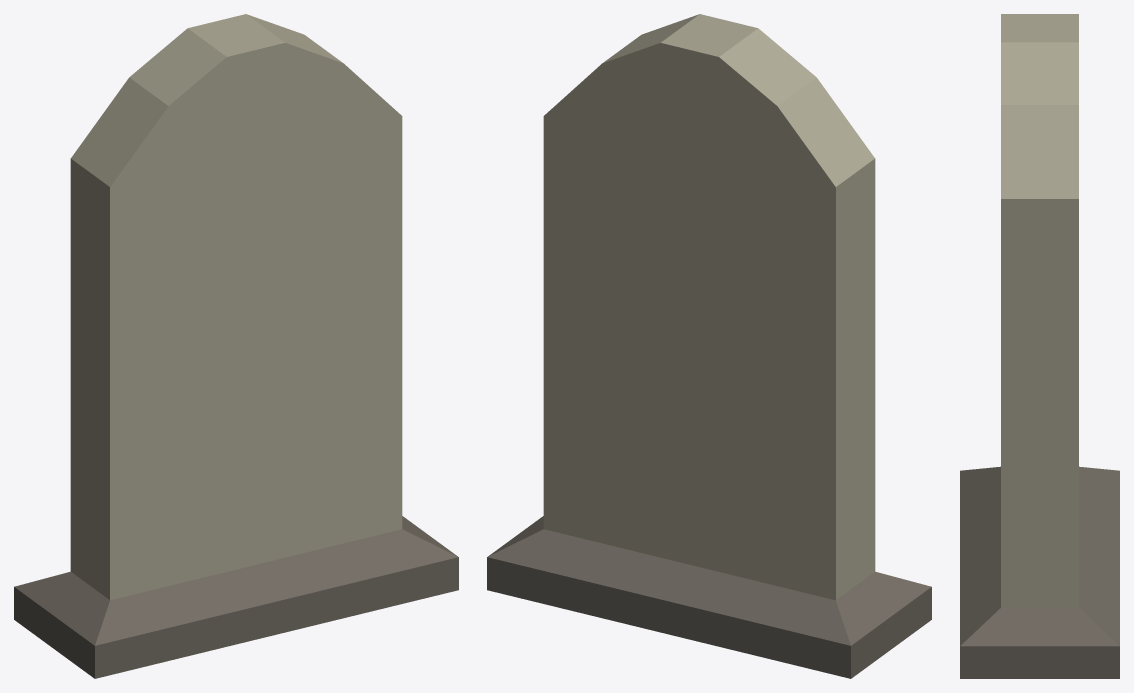
Rendered from Low Poly Tombstone.fbx.
The picture shows the model from 3 angles, left to right: view 1: azimuth 30°, elevation 25°; view 2: azimuth 150°, elevation 25°; view 3: azimuth 270°, elevation 25°; orthographic projection.
Parts seen in each view (by area): view 1: Tombstone; view 2: Tombstone; view 3: Tombstone.
Boxes of the visible parts, x1,y1,x2,y2 form: Tombstone: [14, 14, 458, 678]; Tombstone: [487, 14, 931, 678]; Tombstone: [960, 14, 1119, 678].
Size of the model in its own units: 249 by 373 by 95.87.
